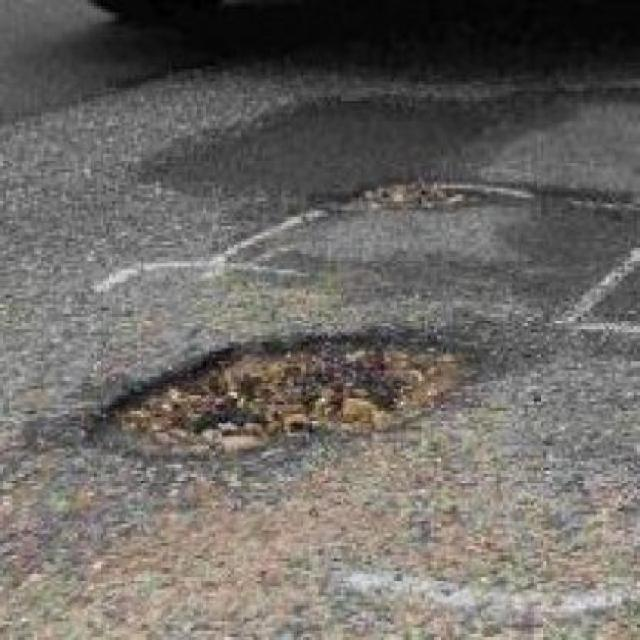pothole: (82, 323, 480, 459), (338, 169, 484, 214)
